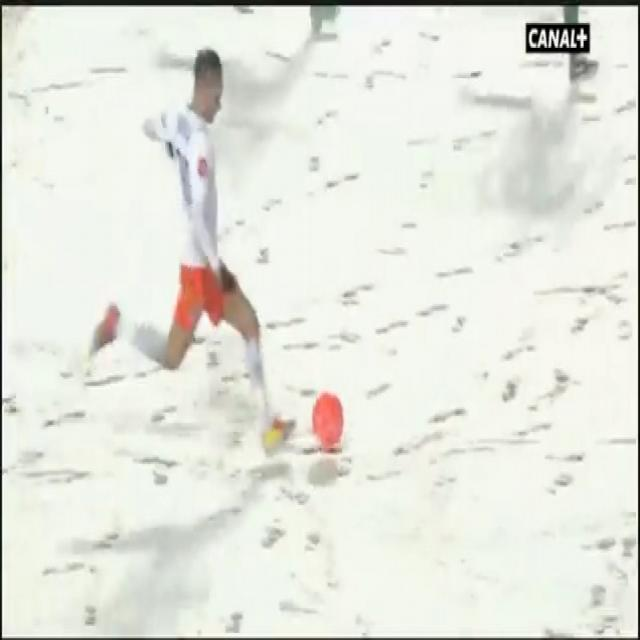ball: (304, 349, 357, 470)
player: (102, 14, 296, 478)
